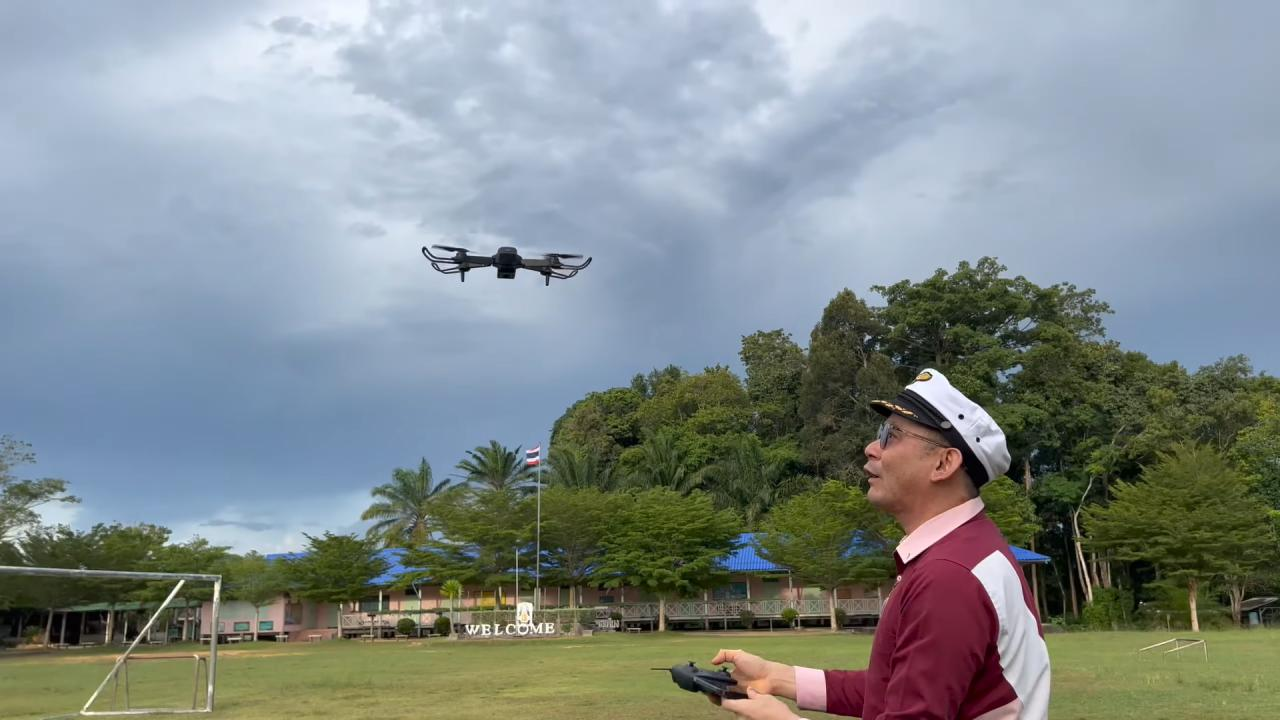Drone: (410, 225, 606, 307)
